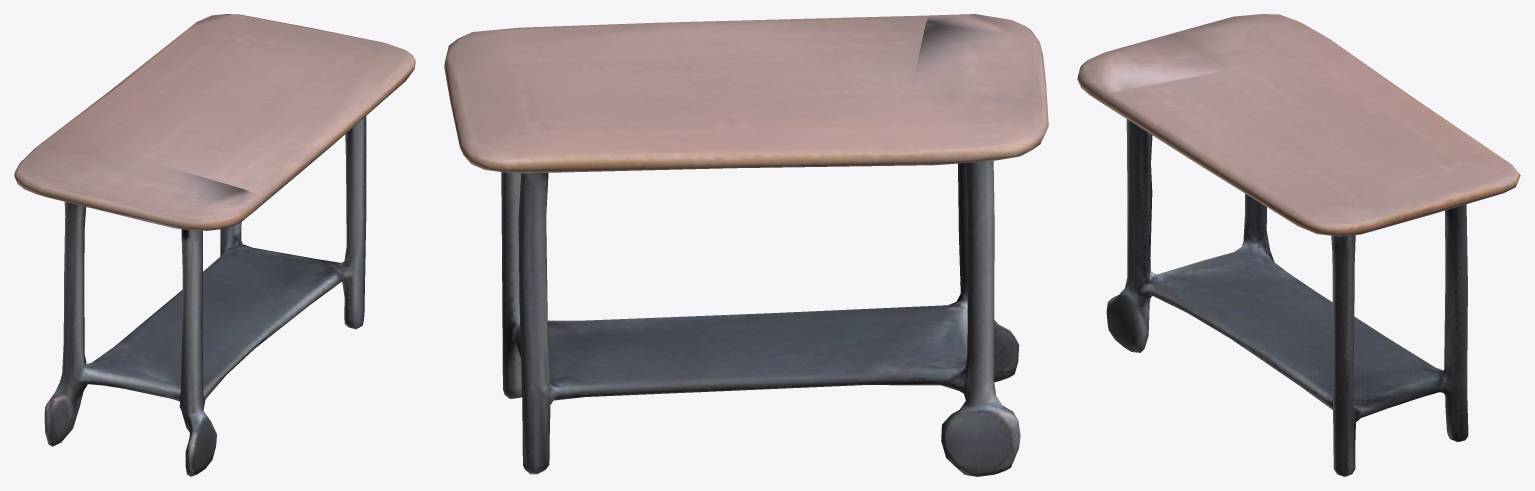
The model's file is table.obj.
3 views of the same model, side by side, from view 1: azimuth 30°, elevation 25°; view 2: azimuth 150°, elevation 25°; view 3: azimuth 270°, elevation 25° (orthographic). The views are drawn at different scales.
Parts seen in each view (by area): view 1: geometry_0; view 2: geometry_0; view 3: geometry_0.
Part boxes in pixels (bbox=[...]): geometry_0: bbox=[14, 14, 415, 476]; geometry_0: bbox=[444, 14, 1048, 476]; geometry_0: bbox=[1077, 14, 1520, 476].
Size of the model in its own units: 1.63 by 1.01 by 1.43.
1 material, 1 textured.
